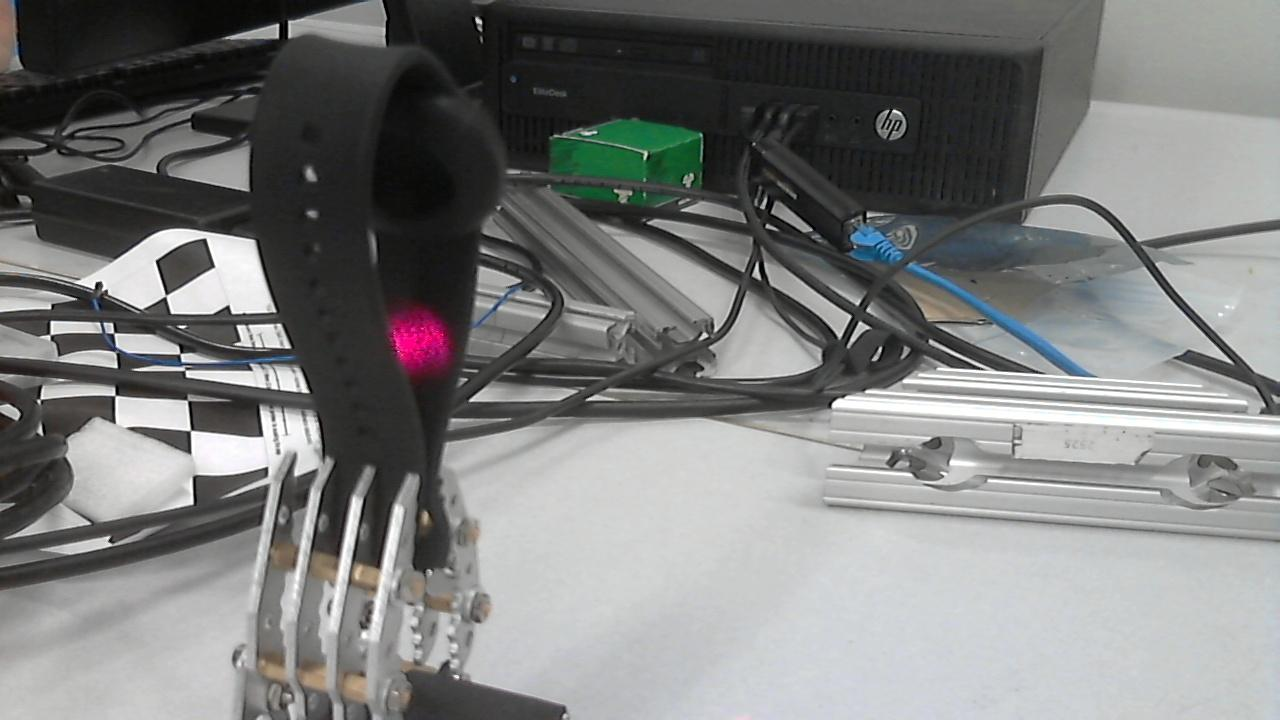Object fitness tracker replacement band - Material silicone - Pdfname fdfasdjhad: (371, 291, 457, 384)
